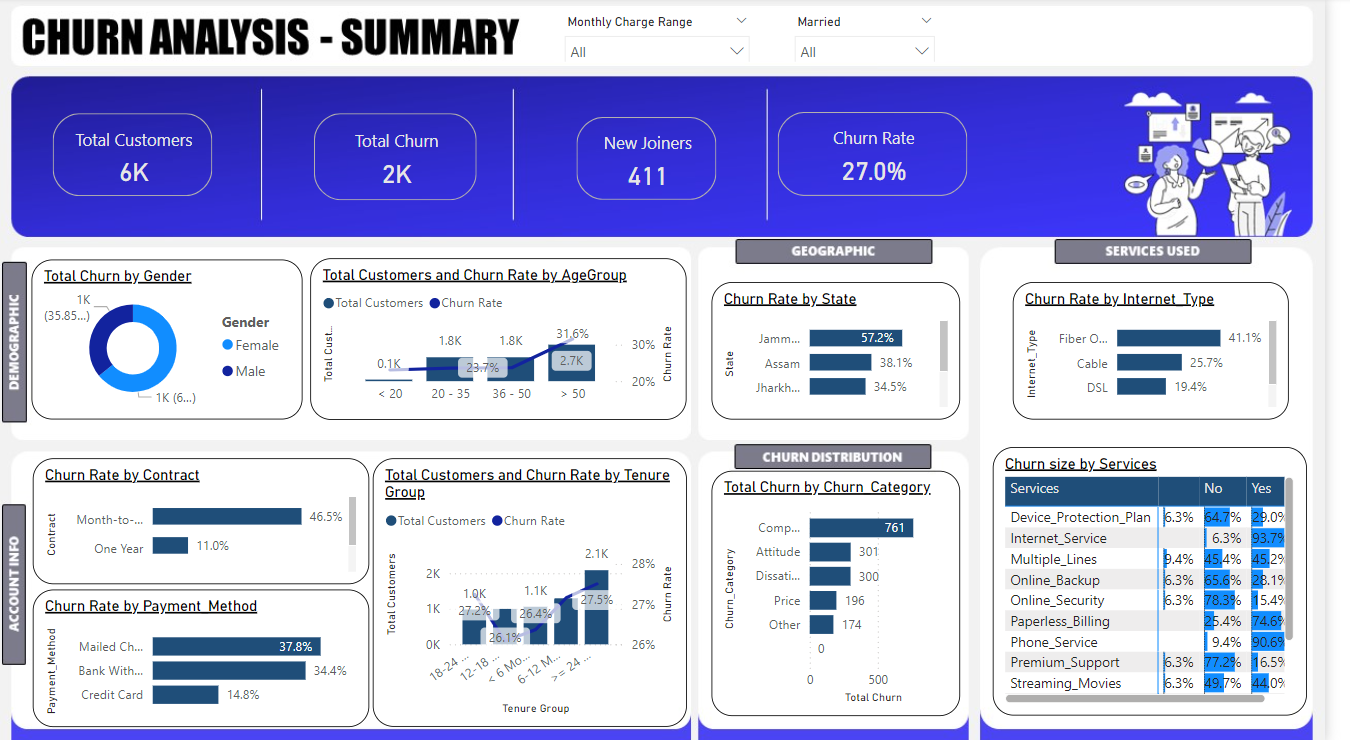

Layout of this report page (visuals, bound fields, positions):
{"tool":"powerbi","page":{"name":"Summary","canvas":[1280,720],"ordinal":0},"visuals":[{"type":"cardVisual","fields":{"Data":["_Measures.Total Customers"]},"box":[47.1,107.4,164.1,90.5],"z":0},{"type":"cardVisual","fields":{"Data":["_Measures.New Joiners"]},"box":[552.5,111,146,90.5],"z":1000},{"type":"cardVisual","fields":{"Data":["_Measures.Churn Rate"]},"box":[746.8,106.2,193,91.7],"z":2000},{"type":"cardVisual","fields":{"Data":["_Measures.Total Churn"]},"box":[299.2,107.4,167.7,94.1],"z":3000},{"type":"donutChart","fields":{"Category":["prod_churn.Gender"],"Y":["_Measures.Total Churn"]},"box":[31.4,253.4,261.8,154.4],"z":4000},{"type":"lineStackedColumnComboChart","fields":{"Category":["mapping_Agegrp.AgeGroup"],"Y":["_Measures.Total Customers"],"Y2":["_Measures.Churn Rate"]},"box":[300.4,252.1,363.1,155.6],"z":5000},{"type":"clusteredBarChart","fields":{"Category":["prod_churn.Payment_Method"],"Y":["_Measures.Churn Rate"]},"box":[32.6,571.9,324.5,132.7],"z":6000},{"type":"clusteredBarChart","fields":{"Category":["prod_churn.Contract"],"Y":["_Measures.Churn Rate"]},"box":[32.6,445.2,324.5,121.9],"z":7000},{"type":"lineStackedColumnComboChart","fields":{"Category":["mapping_TenureGrp.Tenure Group"],"Y":["_Measures.Total Customers"],"Y2":["_Measures.Churn Rate"]},"box":[360.7,445.2,302.8,259.4],"z":8000},{"type":"clusteredBarChart","fields":{"Category":["prod_churn.State"],"Y":["_Measures.Churn Rate"]},"box":[687.7,275.1,240.1,132.7],"z":9000},{"type":"clusteredBarChart","fields":{"Category":["prod_churn.Churn_Category"],"Y":["_Measures.Total Churn"]},"box":[687.7,457.2,240.1,236.5],"z":10000},{"type":"clusteredBarChart","fields":{"Category":["prod_churn.Internet_Type"],"Y":["_Measures.Churn Rate"]},"box":[978.4,275.1,266.6,132.7],"z":11000},{"type":"pivotTable","title":"Churn size by Services","fields":{"Rows":["prod_Services.Services"],"Columns":["prod_Services.Status"],"Values":["Sum(prod_Services.Churn Status)"]},"box":[959.1,434.3,302.8,259.4],"z":12000},{"type":"slicer","fields":{"Values":["prod_churn.Monthly Charge Status"]},"box":[535.7,12.1,199.1,50.7],"z":13000},{"type":"slicer","fields":{"Values":["prod_churn.Married"]},"box":[757.6,12.1,155.6,50.7],"z":14000}]}

Visuals, with their boxes in screenshot pixels (x1, y1, x2, y2), scaled from the page's 1280x720 canvas onto the 1350x740 screenshot:
cardVisual - _Measures.Total Customers: x1=50, y1=110, x2=223, y2=203
cardVisual - _Measures.New Joiners: x1=583, y1=114, x2=737, y2=207
cardVisual - _Measures.Churn Rate: x1=788, y1=109, x2=991, y2=203
cardVisual - _Measures.Total Churn: x1=316, y1=110, x2=492, y2=207
donutChart - prod_churn.Gender x _Measures.Total Churn: x1=33, y1=260, x2=309, y2=419
lineStackedColumnComboChart - mapping_Agegrp.AgeGroup x _Measures.Total Customers: x1=317, y1=259, x2=700, y2=419
clusteredBarChart - prod_churn.Payment_Method x _Measures.Churn Rate: x1=34, y1=588, x2=377, y2=724
clusteredBarChart - prod_churn.Contract x _Measures.Churn Rate: x1=34, y1=458, x2=377, y2=583
lineStackedColumnComboChart - mapping_TenureGrp.Tenure Group x _Measures.Total Customers: x1=380, y1=458, x2=700, y2=724
clusteredBarChart - prod_churn.State x _Measures.Churn Rate: x1=725, y1=283, x2=979, y2=419
clusteredBarChart - prod_churn.Churn_Category x _Measures.Total Churn: x1=725, y1=470, x2=979, y2=713
clusteredBarChart - prod_churn.Internet_Type x _Measures.Churn Rate: x1=1032, y1=283, x2=1313, y2=419
"Churn size by Services" pivotTable: x1=1012, y1=446, x2=1331, y2=713
slicer - prod_churn.Monthly Charge Status: x1=565, y1=12, x2=775, y2=65
slicer - prod_churn.Married: x1=799, y1=12, x2=963, y2=65
